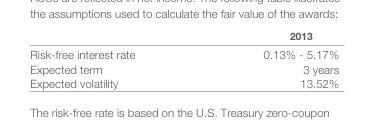table: (29, 29, 338, 89)
table column: (29, 29, 198, 89), (198, 29, 338, 89)
table column header: (29, 29, 338, 44)
table row: (29, 44, 338, 61), (29, 29, 338, 44), (29, 61, 338, 75), (29, 75, 338, 89)
